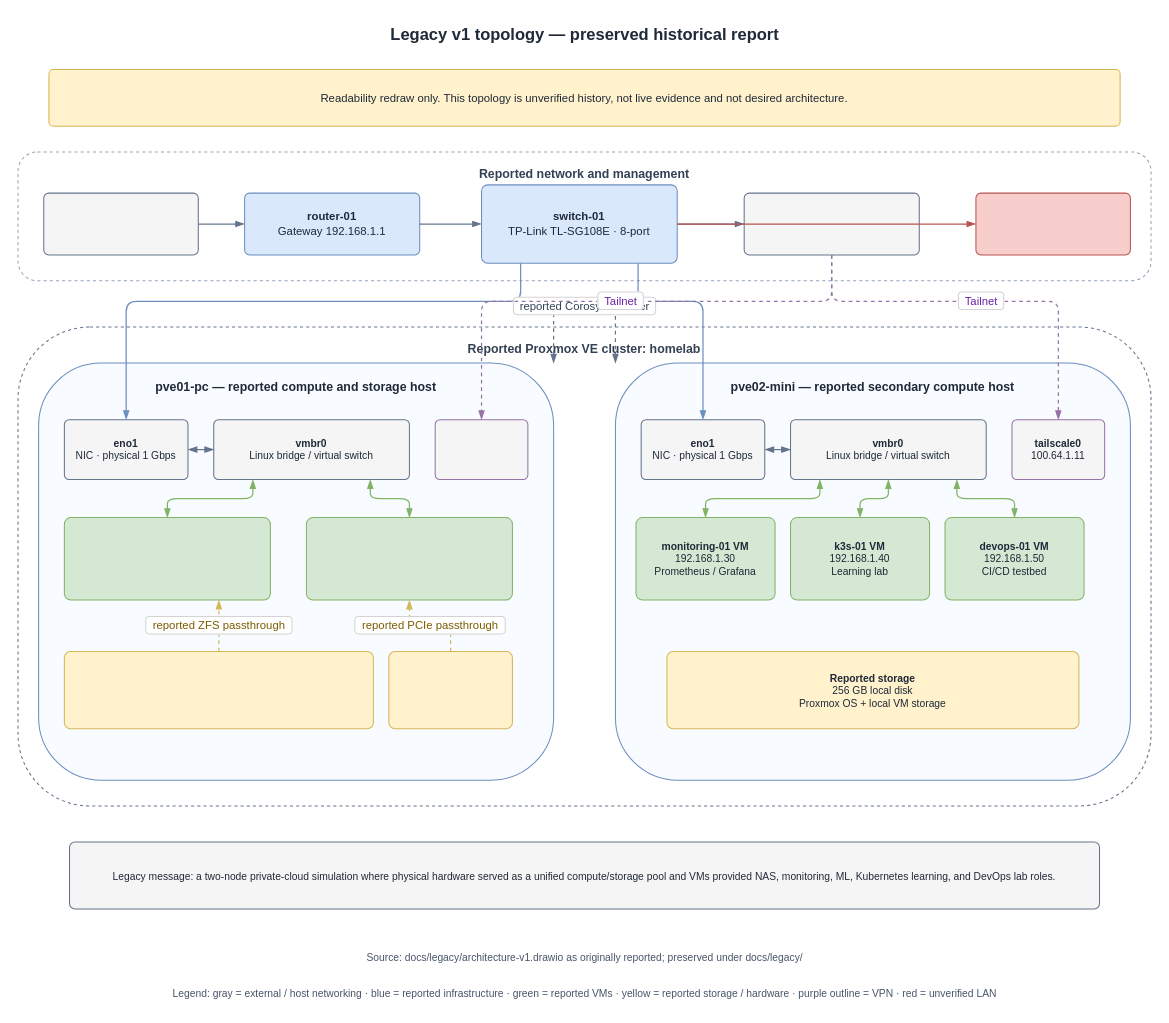
The diagram is 1169 pixels wide and 1023 high, and some of its shapes have lost their labels. Each missing label, with the centre of its shape:
"Admin workstation SSH · Web UI · Git" belongs at pixel 831 223.
"GPU RTX 2060 OC 6 GB · reported" belongs at pixel 450 689.
"Internet ISP WAN" belongs at pixel 120 223.
"ml-compute-01 VM 192.168.1.41 · ML/thesis 4 vCPU · 8 GB + GPU" belongs at pixel 408 558.
"nas-01 VM 192.168.1.20 · NFS/SMB 2 vCPU · 4 GB RAM" belongs at pixel 166 558.
"Reported flat LAN 192.168.1.0/24" belongs at pixel 1052 223.
"Reported storage 256 GB OS · 256 GB SSD ZFS mirror: 2 × 4 TB (tank)" belongs at pixel 218 689.
"tailscale0 100.64.1.10" belongs at pixel 481 449.
